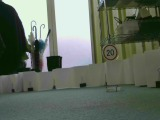speed_20: (102, 44, 118, 61)
